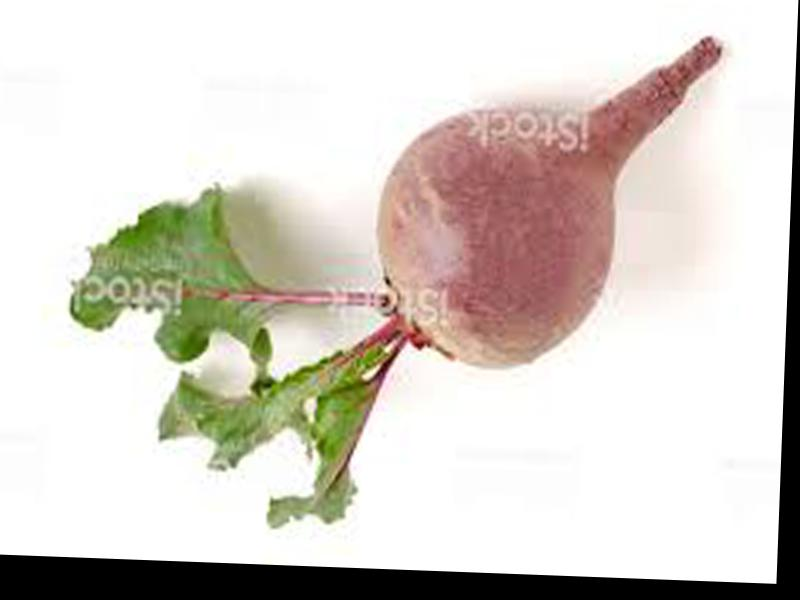Beet: (59, 15, 720, 544)
